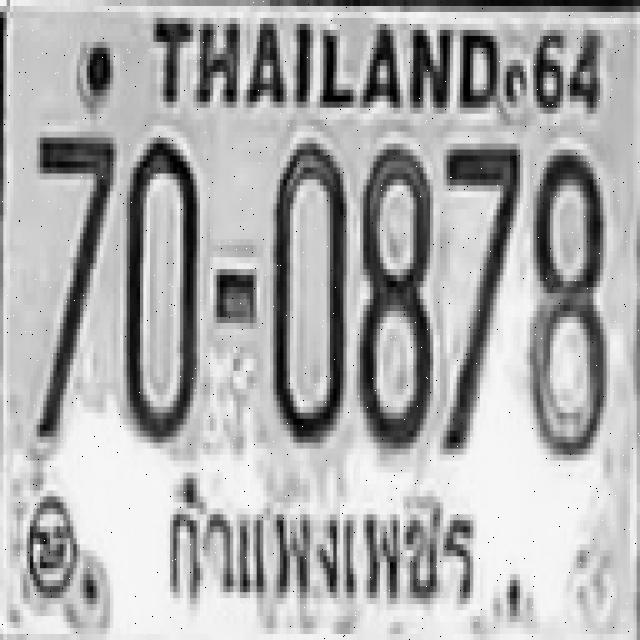0: (122, 128, 198, 440), (270, 138, 344, 436)
7: (34, 128, 114, 440), (442, 138, 518, 448)
8: (524, 143, 604, 454), (356, 140, 431, 446)
KamphaengPhet: (154, 460, 482, 620)
